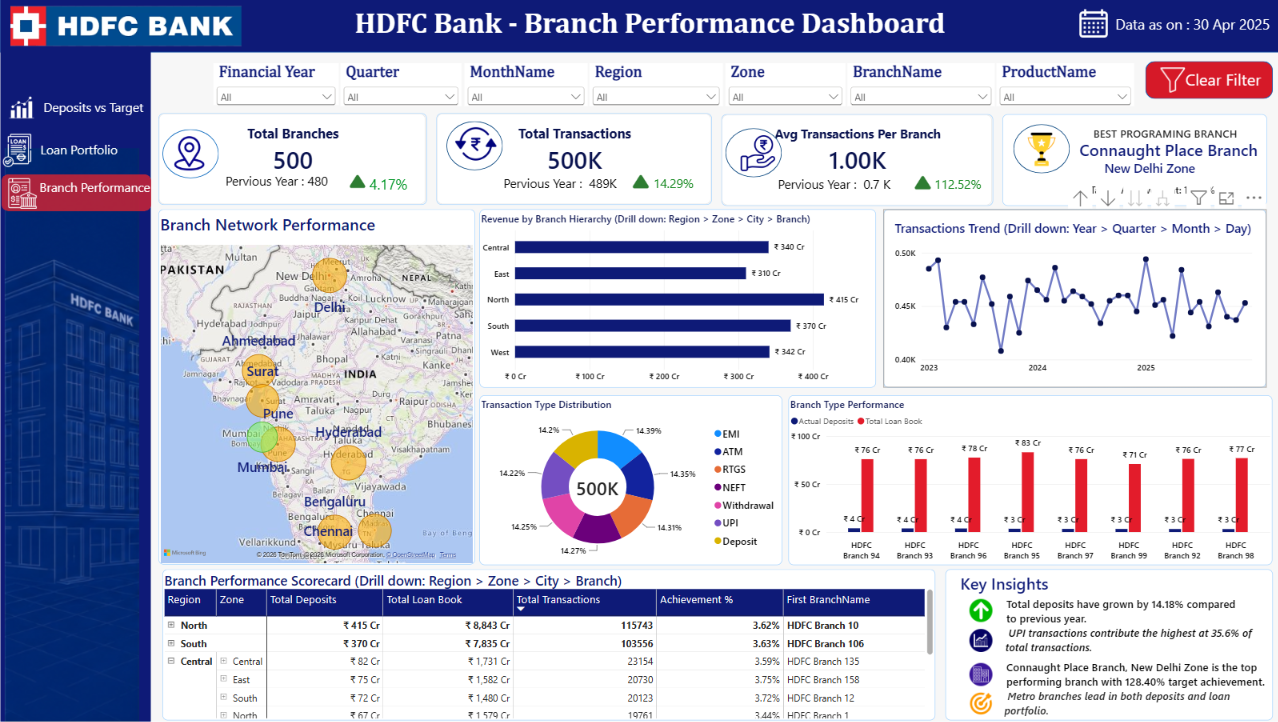

Layout of this report page (visuals, bound fields, positions):
{"tool":"powerbi","page":{"name":"Branch Performance","canvas":[1920,1080],"ordinal":2},"visuals":[{"type":"shape","box":[8.8,0,1911.2,79.5],"z":0,"group":"g1"},{"type":"group","id":"g1","title":"Group 1","box":[8.8,0,1911.2,1080.3],"z":0},{"type":"slicer","fields":{"Values":["DimDate.Financial Year"]},"box":[327.4,95.1,187.1,62.4],"z":0,"group":"g2"},{"type":"group","id":"g2","title":"Group 2","box":[327.4,95.1,1374.9,63.9],"z":0,"group":"g11"},{"type":"group","id":"g3","title":"depo vs tar","box":[10.5,135.4,223.9,55.2],"z":0,"group":"g5"},{"type":"actionButton","box":[10.5,135.4,223.9,55.2],"z":0,"group":"g3"},{"type":"group","id":"g4","title":"KPI 1","box":[244.7,170.3,400.6,137.2],"z":0,"group":"g12"},{"type":"cardVisual","fields":{"Data":["Measure Table.Total Branches"]},"box":[244.7,170.3,400.6,137.2],"z":0,"group":"g4"},{"type":"cardVisual","fields":{"Data":["Measure Table.Total Transactions"]},"box":[659.3,170.3,411.5,137.2],"z":0,"group":"g6"},{"type":"textbox","box":[1504.8,171,395.2,137.1],"z":0,"group":"g13"},{"type":"cardVisual","fields":{"Data":["Measure Table.Avg Transactions Per Branch"]},"box":[1085.4,171.4,405.3,137.2],"z":0,"group":"g9"},{"type":"actionButton","box":[9.9,194.8,223.9,55.2],"z":0,"group":"g7"},{"type":"actionButton","box":[10.5,261.2,223.9,55.2],"z":0,"group":"g10"},{"type":"textbox","box":[1419.4,850,488.8,225.8],"z":0,"group":"g14"},{"type":"shape","box":[8.8,0,224.5,1080.3],"z":1000,"group":"g1"},{"type":"shape","box":[1717.9,92,190.2,56.1],"z":1000,"group":"g8"},{"type":"slicer","fields":{"Values":["DimDate.Quarter"]},"box":[517.6,95.1,180.8,63.9],"z":1000,"group":"g2"},{"type":"group","id":"g5","title":"page pane","box":[9,135.4,235.4,181],"z":1000},{"type":"textbox","box":[72.7,148,151.2,26.5],"z":1000,"group":"g3"},{"type":"group","id":"g6","title":"KPI 2","box":[659.3,170.3,411.5,137.2],"z":1000,"group":"g12"},{"type":"shape","box":[1520.9,185.5,84.2,73.3],"z":1000,"group":"g13"},{"type":"group","id":"g7","title":"loan","box":[9,194.8,224.8,57.3],"z":1000,"group":"g5"},{"type":"image","box":[9,197.6,49.9,54.6],"z":1000,"group":"g7"},{"type":"textbox","box":[345.1,258.5,164.5,29],"z":1000,"group":"g4"},{"type":"textbox","box":[758.7,261.7,180.6,25.8],"z":1000,"group":"g6"},{"type":"textbox","box":[1141.3,262.3,225.7,27.1],"z":1000,"group":"g9"},{"type":"image","box":[18.4,267.3,48.3,45.2],"z":1000,"group":"g10"},{"type":"textbox","box":[1424.1,854.8,167.1,35.5],"z":1000,"group":"g14"},{"type":"image","box":[24.4,10.9,344.5,59.2],"z":2000,"group":"g1"},{"type":"group","id":"g8","title":"clear filter","box":[1717.9,89.4,191.2,60.6],"z":2000},{"type":"slicer","fields":{"Values":["DimDate.MonthName"]},"box":[701.5,95.1,184,63.9],"z":2000,"group":"g2"},{"type":"image","box":[1739.7,96.7,37.4,46.8],"z":2000,"group":"g8"},{"type":"image","box":[15,140.2,51.4,42.1],"z":2000,"group":"g3"},{"type":"group","id":"g9","title":"KPI 3","box":[1085.4,171.4,405.3,137.2],"z":2000,"group":"g12"},{"type":"image","box":[1532.2,195.2,62.9,56.5],"z":2000,"group":"g13"},{"type":"textbox","box":[68.2,211.6,127.8,28.1],"z":2000,"group":"g7"},{"type":"textbox","box":[559.4,260.7,72.2,29.1],"z":2000,"group":"g4"},{"type":"textbox","box":[982.5,260.7,74.2,29.1],"z":2000,"group":"g6"},{"type":"group","id":"g10","title":"branch","box":[10.5,261.2,233.9,55.2],"z":2000,"group":"g5"},{"type":"textbox","box":[1403.7,261.8,73.1,29.1],"z":2000,"group":"g9"},{"type":"textbox","box":[66.7,267.3,177.7,29.6],"z":2000,"group":"g10"},{"type":"textbox","box":[1510,890.3,359.2,43.5],"z":2000,"group":"g14"},{"type":"textbox","box":[484.3,9.4,986.8,60.8],"z":3000,"group":"g1"},{"type":"group","id":"g11","title":"slicer","box":[327.4,95.1,1374.9,63.9],"z":3000},{"type":"slicer","fields":{"Values":["DimBranch.Region"]},"box":[888.6,95.1,199.5,63.9],"z":3000,"group":"g2"},{"type":"textbox","box":[1777.1,102.9,130.9,32.7],"z":3000,"group":"g8"},{"type":"textbox","box":[1619.3,208.1,274.2,33.9],"z":3000,"group":"g13"},{"type":"image","box":[528.4,255.8,27.5,33.9],"z":3000,"group":"g4"},{"type":"image","box":[950.7,255.8,28.3,33.9],"z":3000,"group":"g6"},{"type":"image","box":[1372.4,256.9,27.8,33.9],"z":3000,"group":"g9"},{"type":"textbox","box":[1508.4,933.9,396.6,50],"z":3000,"group":"g14"},{"type":"actionButton","box":[1718.2,89.4,190.9,60.6],"z":3500,"group":"g8"},{"type":"textbox","box":[1673.7,21.8,233.8,35.9],"z":4000,"group":"g1"},{"type":"slicer","fields":{"Values":["DimBranch.Zone"]},"box":[1091.3,95.1,179.3,63.9],"z":4000,"group":"g2"},{"type":"group","id":"g12","title":"ALL KPI","box":[244.7,170.3,1246,138.2],"z":4000},{"type":"shape","box":[675,182.4,84.2,73.3],"z":4000,"group":"g6"},{"type":"shape","box":[1091.1,191.7,84.2,73.3],"z":4000,"group":"g9"},{"type":"shape","box":[250,194.2,84.2,73.3],"z":4000,"group":"g4"},{"type":"textbox","box":[1656.4,238.7,156.5,27.4],"z":4000,"group":"g13"},{"type":"textbox","box":[1510,983.9,399.8,43.5],"z":4000,"group":"g14"},{"type":"image","box":[1619.1,15.6,42.1,42.1],"z":5000,"group":"g1"},{"type":"slicer","fields":{"Values":["DimBranch.BranchName"]},"box":[1273.7,95.1,219.8,63.9],"z":5000,"group":"g2"},{"type":"group","id":"g13","title":"4TH CARD","box":[1504.8,171,395.2,137.1],"z":5000},{"type":"image","box":[681.3,185.9,72.6,61.3],"z":5000,"group":"g6"},{"type":"textbox","box":[1640.3,188.7,221,27.4],"z":5000,"group":"g13"},{"type":"image","box":[1112,203,54.8,53.2],"z":5000,"group":"g9"},{"type":"image","box":[260,204.2,62.4,51.4],"z":5000,"group":"g4"},{"type":"textbox","box":[1506.8,1027.4,391.9,48.4],"z":5000,"group":"g14"},{"type":"slicer","fields":{"Values":["DimProduct.ProductName"]},"box":[1496.6,95.1,205.8,63.9],"z":6000,"group":"g2"},{"type":"image","box":[8.8,222.9,213.6,857.4],"z":6000,"group":"g1"},{"type":"textbox","box":[1635.4,274.2,200,29],"z":6000,"group":"g13"},{"type":"map","title":"Branch Network Performance","fields":{"Category":["DimBranch.City"],"Size":["Measure Table.Actual Deposits"]},"box":[245.2,312.9,472.6,530.6],"z":6000},{"type":"image","box":[1455.3,888.7,34.4,45.2],"z":6000,"group":"g14"},{"type":"clusteredBarChart","title":"Revenue by Branch Hierarchy (Drill down: Region > Zone > City > Branch)","fields":{"Category":["DimBranch.Region","DimBranch.Zone","DimBranch.City","DimBranch.BranchName"],"Y":["Measure Table.Actual Deposits"]},"box":[724.2,312.9,591.9,266.1],"z":7000},{"type":"image","box":[1455.3,933.9,34.4,45.2],"z":7000,"group":"g14"},{"type":"lineChart","title":"Transactions Trend (Drill down: Year > Quarter > Month > Day)","fields":{"Category":["DimDate.Date.Variation.Date Hierarchy.Year","DimDate.Date.Variation.Date Hierarchy.Quarter","DimDate.Date.Variation.Date Hierarchy.Month","DimDate.Date.Variation.Date Hierarchy.Day"],"Y":["Measure Table.Total Transactions"]},"box":[1327.4,312.9,571,266.1],"z":8000},{"type":"image","box":[1455.3,983.9,34.4,45.2],"z":8000,"group":"g14"},{"type":"donutChart","title":"Transaction Type Distribution","fields":{"Category":["FactTransactions.TransactionType"],"Y":["Measure Table.Total Transactions"]},"box":[724.2,590.3,451.6,253.2],"z":9000},{"type":"image","box":[1455.3,1027.4,34.4,45.2],"z":9000,"group":"g14"},{"type":"clusteredColumnChart","title":"Branch Type Performance","fields":{"Category":["DimBranch.BranchName"],"Y":["Measure Table.Actual Deposits","Measure Table.Total Loan Book"]},"box":[1185.5,590.3,722.6,253.2],"z":10000},{"type":"pivotTable","title":"Branch Performance Scorecard (Drill down: Region > Zone > City > Branch)","fields":{"Rows":["DimBranch.Region","DimBranch.Zone","DimBranch.BranchName"],"Values":["Measure Table.Total Deposits","Measure Table.Total Loan Book","Measure Table.Total Transactions","Measure Table.Achievement %","Min(DimBranch.BranchName)"]},"box":[250,850,1153.2,225.8],"z":11000},{"type":"group","id":"g14","title":"Key Insights","box":[1419.4,850,490.3,225.8],"z":12000}]}

Visuals, with their boxes on the page's 1920x1080 design canvas (x1, y1, x2, y2). These are canvas units, not pixel positions in the 1278x722 screenshot, which may show the page scaled, cropped or inside an application window:
shape: bbox=(9, 0, 1920, 80)
"Group 1" group: bbox=(9, 0, 1920, 1080)
slicer - DimDate.Financial Year: bbox=(327, 95, 514, 158)
"Group 2" group: bbox=(327, 95, 1702, 159)
"depo vs tar" group: bbox=(10, 135, 234, 191)
actionButton: bbox=(10, 135, 234, 191)
"KPI 1" group: bbox=(245, 170, 645, 308)
cardVisual - Measure Table.Total Branches: bbox=(245, 170, 645, 308)
cardVisual - Measure Table.Total Transactions: bbox=(659, 170, 1071, 308)
textbox: bbox=(1505, 171, 1900, 308)
cardVisual - Measure Table.Avg Transactions Per Branch: bbox=(1085, 171, 1491, 309)
actionButton: bbox=(10, 195, 234, 250)
actionButton: bbox=(10, 261, 234, 316)
textbox: bbox=(1419, 850, 1908, 1076)
shape: bbox=(9, 0, 233, 1080)
shape: bbox=(1718, 92, 1908, 148)
slicer - DimDate.Quarter: bbox=(518, 95, 698, 159)
"page pane" group: bbox=(9, 135, 244, 316)
textbox: bbox=(73, 148, 224, 174)
"KPI 2" group: bbox=(659, 170, 1071, 308)
shape: bbox=(1521, 186, 1605, 259)
"loan" group: bbox=(9, 195, 234, 252)
image: bbox=(9, 198, 59, 252)
textbox: bbox=(345, 258, 510, 288)
textbox: bbox=(759, 262, 939, 288)
textbox: bbox=(1141, 262, 1367, 289)
image: bbox=(18, 267, 67, 312)
textbox: bbox=(1424, 855, 1591, 890)
image: bbox=(24, 11, 369, 70)
"clear filter" group: bbox=(1718, 89, 1909, 150)
slicer - DimDate.MonthName: bbox=(702, 95, 886, 159)
image: bbox=(1740, 97, 1777, 144)
image: bbox=(15, 140, 66, 182)
"KPI 3" group: bbox=(1085, 171, 1491, 309)
image: bbox=(1532, 195, 1595, 252)
textbox: bbox=(68, 212, 196, 240)
textbox: bbox=(559, 261, 632, 290)
textbox: bbox=(982, 261, 1057, 290)
"branch" group: bbox=(10, 261, 244, 316)
textbox: bbox=(1404, 262, 1477, 291)
textbox: bbox=(67, 267, 244, 297)
textbox: bbox=(1510, 890, 1869, 934)
textbox: bbox=(484, 9, 1471, 70)
"slicer" group: bbox=(327, 95, 1702, 159)
slicer - DimBranch.Region: bbox=(889, 95, 1088, 159)
textbox: bbox=(1777, 103, 1908, 136)
textbox: bbox=(1619, 208, 1894, 242)
image: bbox=(528, 256, 556, 290)
image: bbox=(951, 256, 979, 290)
image: bbox=(1372, 257, 1400, 291)
textbox: bbox=(1508, 934, 1905, 984)
actionButton: bbox=(1718, 89, 1909, 150)
textbox: bbox=(1674, 22, 1908, 58)
slicer - DimBranch.Zone: bbox=(1091, 95, 1271, 159)
"ALL KPI" group: bbox=(245, 170, 1491, 308)
shape: bbox=(675, 182, 759, 256)
shape: bbox=(1091, 192, 1175, 265)
shape: bbox=(250, 194, 334, 268)
textbox: bbox=(1656, 239, 1813, 266)
textbox: bbox=(1510, 984, 1910, 1027)
image: bbox=(1619, 16, 1661, 58)
slicer - DimBranch.BranchName: bbox=(1274, 95, 1494, 159)
"4TH CARD" group: bbox=(1505, 171, 1900, 308)
image: bbox=(681, 186, 754, 247)
textbox: bbox=(1640, 189, 1861, 216)
image: bbox=(1112, 203, 1167, 256)
image: bbox=(260, 204, 322, 256)
textbox: bbox=(1507, 1027, 1899, 1076)
slicer - DimProduct.ProductName: bbox=(1497, 95, 1702, 159)
image: bbox=(9, 223, 222, 1080)
textbox: bbox=(1635, 274, 1835, 303)
"Branch Network Performance" map: bbox=(245, 313, 718, 844)
image: bbox=(1455, 889, 1490, 934)
"Revenue by Branch Hierarchy (Drill down: Region > Zone > City > Branch)" clusteredBarChart: bbox=(724, 313, 1316, 579)
image: bbox=(1455, 934, 1490, 979)
"Transactions Trend (Drill down: Year > Quarter > Month > Day)" lineChart: bbox=(1327, 313, 1898, 579)
image: bbox=(1455, 984, 1490, 1029)
"Transaction Type Distribution" donutChart: bbox=(724, 590, 1176, 844)
image: bbox=(1455, 1027, 1490, 1073)
"Branch Type Performance" clusteredColumnChart: bbox=(1186, 590, 1908, 844)
"Branch Performance Scorecard (Drill down: Region > Zone > City > Branch)" pivotTable: bbox=(250, 850, 1403, 1076)
"Key Insights" group: bbox=(1419, 850, 1910, 1076)
